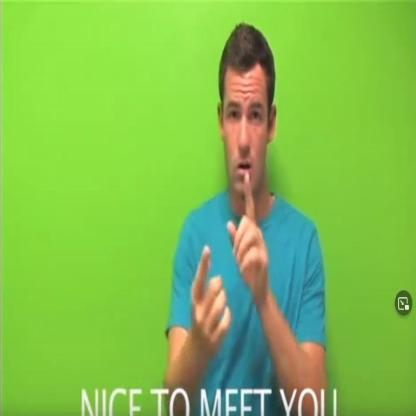NiceToMeetYou: (176, 166, 286, 342)
